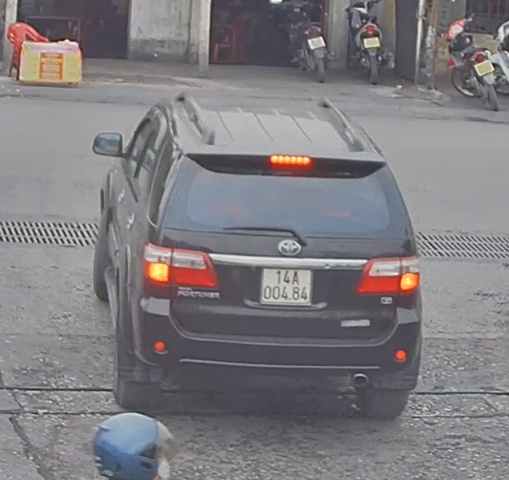vehicle plate: (262, 262, 315, 307)
